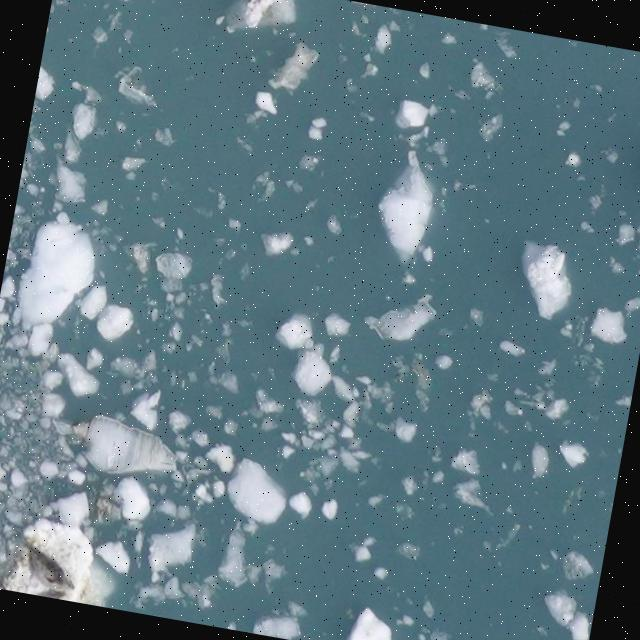seal: (12, 536, 80, 605)
